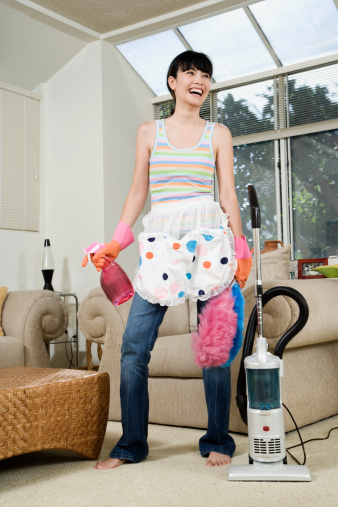em pe: (105, 38, 252, 471)
